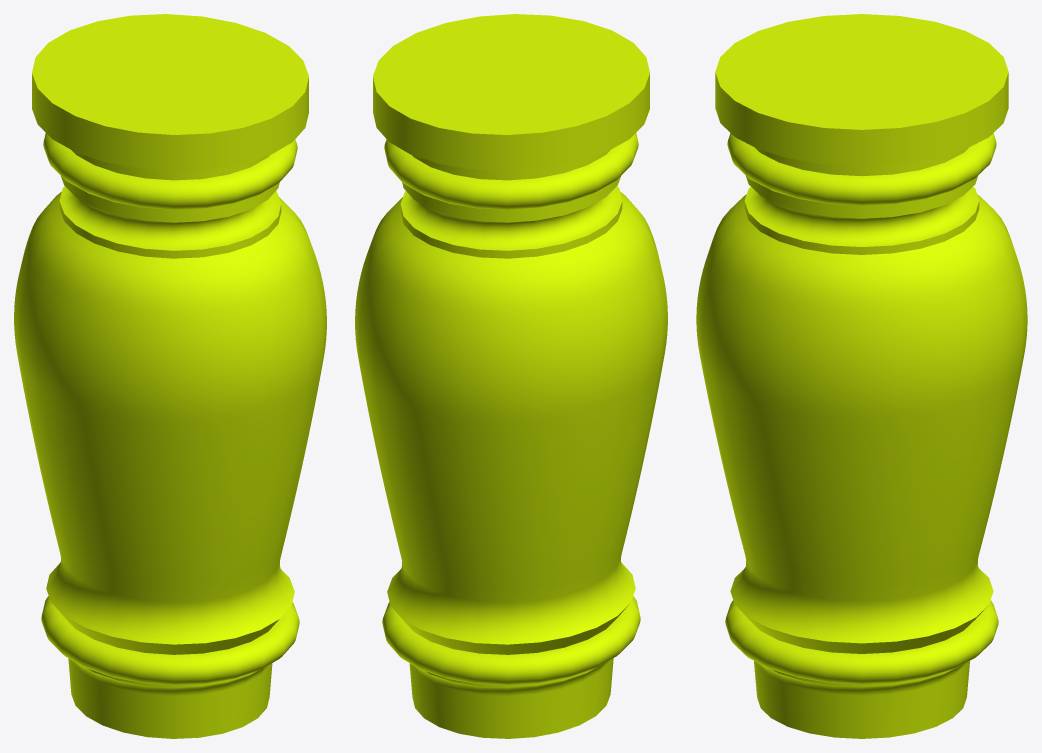
Rendered from original-6.obj.
The picture shows the model from 3 angles, left to right: view 1: azimuth 30°, elevation 25°; view 2: azimuth 150°, elevation 25°; view 3: azimuth 270°, elevation 25°; orthographic projection.
Visible parts, largest first — view 1: new_leg1/new_leg/mesh5/mesh5-geometry#mesh5-geometry; view 2: new_leg1/new_leg/mesh5/mesh5-geometry#mesh5-geometry; view 3: new_leg1/new_leg/mesh5/mesh5-geometry#mesh5-geometry.
Boxes of the visible parts, <box> form: new_leg1/new_leg/mesh5/mesh5-geometry#mesh5-geometry: <box>14,14,326,738</box>; new_leg1/new_leg/mesh5/mesh5-geometry#mesh5-geometry: <box>355,14,667,738</box>; new_leg1/new_leg/mesh5/mesh5-geometry#mesh5-geometry: <box>696,14,1027,738</box>.
Size of the model in its own units: 0.1179 by 0.2627 by 0.1261.
